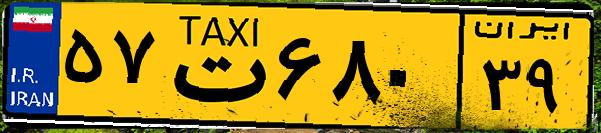0: (385, 28, 445, 110)
3: (475, 38, 525, 113)
5: (57, 26, 110, 100)
6: (270, 28, 330, 110)
7: (110, 28, 158, 98)
8: (330, 28, 385, 110)
9: (525, 38, 570, 115)
ت: (158, 12, 270, 120)
